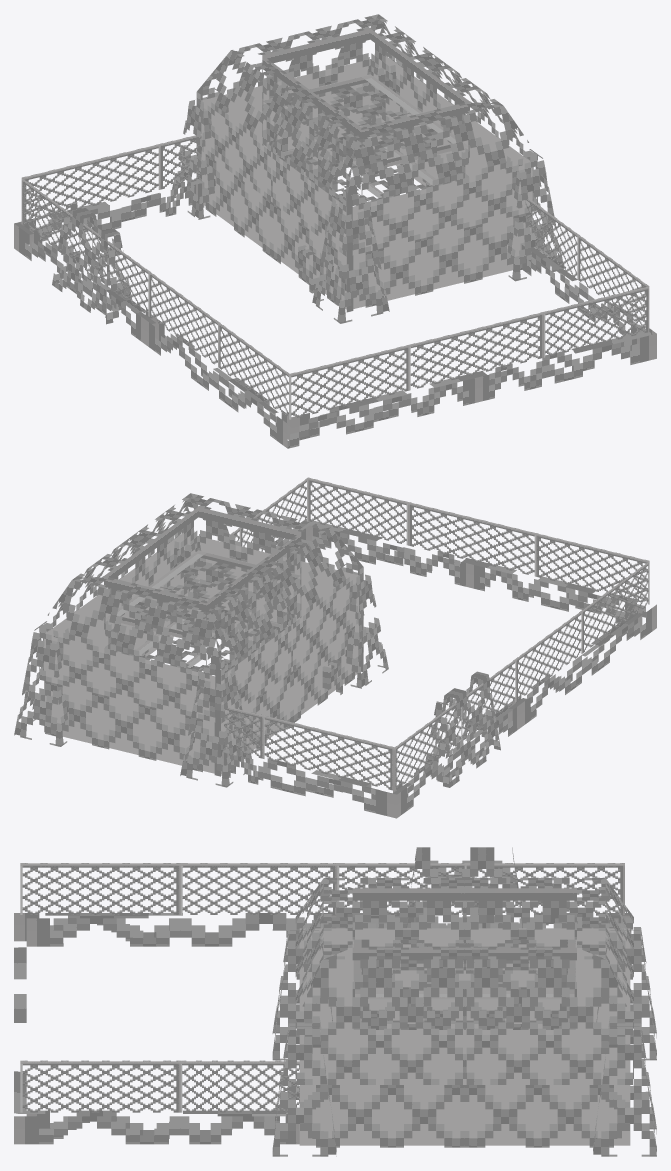
The model's file is prison.glb.
The picture shows the model from 3 angles, top to bottom: view 1: azimuth 30°, elevation 25°; view 2: azimuth 150°, elevation 25°; view 3: azimuth 270°, elevation 25°; orthographic projection. The views are drawn at different scales.
Visible parts, largest first — view 1: Prison, chainlinks, LitWin_Prison, prisonwall2; view 2: Prison, chainlinks, LitWin_Prison, prisonwall2; view 3: Prison, LitWin_Prison, chainlinks, prisonwall2.
Part boxes in pixels (x1=…): Prison: x1=52, y1=14, x2=564, y2=324; chainlinks: x1=21, y1=133, x2=649, y2=419; LitWin_Prison: x1=201, y1=55, x2=532, y2=309; prisonwall2: x1=14, y1=179, x2=656, y2=448; Prison: x1=14, y1=493, x2=500, y2=787; chainlinks: x1=188, y1=477, x2=649, y2=790; LitWin_Prison: x1=44, y1=532, x2=358, y2=773; prisonwall2: x1=187, y1=519, x2=656, y2=818; Prison: x1=272, y1=847, x2=656, y2=1156; LitWin_Prison: x1=299, y1=928, x2=630, y2=1145; chainlinks: x1=20, y1=863, x2=624, y2=1112; prisonwall2: x1=14, y1=913, x2=631, y2=1144.
Size of the model in its own units: 32.53 by 12.14 by 40.14.
1 material, 1 textured.
